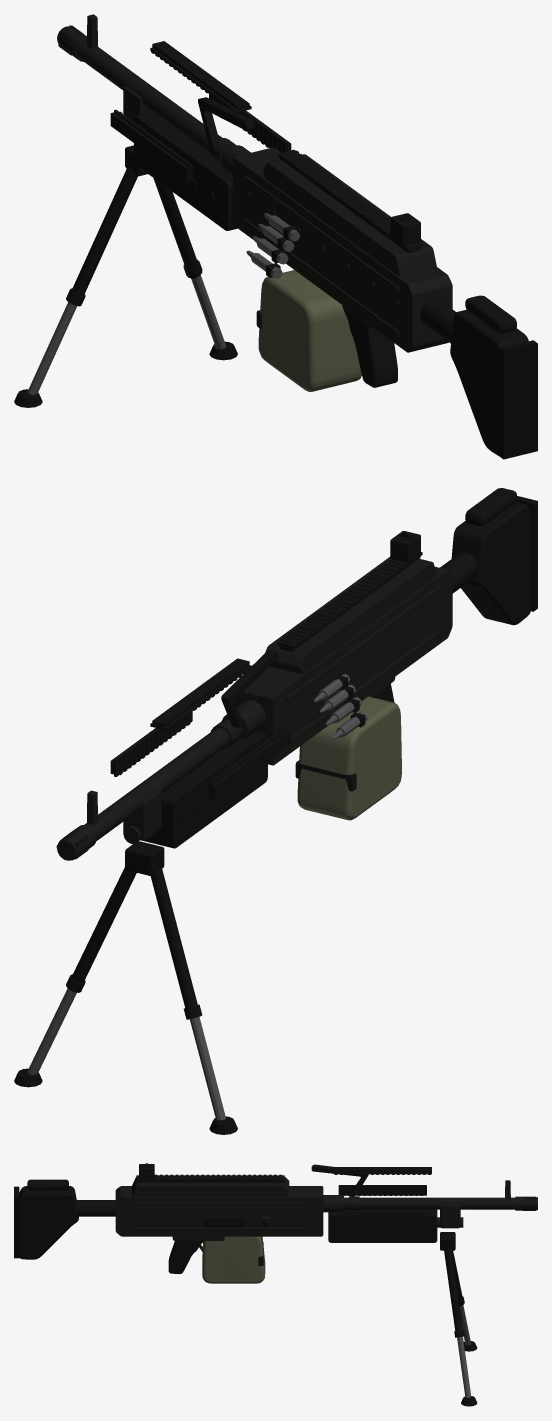
File: weapon_fn_minimi.glb
3 views of the same model, one above another, from view 1: azimuth 30°, elevation 25°; view 2: azimuth 150°, elevation 25°; view 3: azimuth 270°, elevation 25° (orthographic). The views are drawn at different scales.
Visible parts, largest first — view 1: weapon_fn_minimi_LOD0, weapon_fn_minimi_Stock_LOD0, weapon_fn_minimi_AmmoPouch_LOD0, weapon_fn_minimi_FeedCover_LOD0, weapon_fn_minimi_Bipod_LOD0, weapon_fn_minimi_Belt_LOD0; view 2: weapon_fn_minimi_LOD0, weapon_fn_minimi_Stock_LOD0, weapon_fn_minimi_AmmoPouch_LOD0, weapon_fn_minimi_FeedCover_LOD0, weapon_fn_minimi_Bipod_LOD0, weapon_fn_minimi_Belt_LOD0; view 3: weapon_fn_minimi_LOD0, weapon_fn_minimi_Stock_LOD0, weapon_fn_minimi_FeedCover_LOD0, weapon_fn_minimi_AmmoPouch_LOD0, weapon_fn_minimi_Bipod_LOD0.
Part boxes in pixels (bbox=[...]): weapon_fn_minimi_LOD0: bbox=[57, 14, 452, 387]; weapon_fn_minimi_Stock_LOD0: bbox=[420, 295, 537, 459]; weapon_fn_minimi_AmmoPouch_LOD0: bbox=[256, 270, 361, 391]; weapon_fn_minimi_FeedCover_LOD0: bbox=[263, 149, 436, 277]; weapon_fn_minimi_Bipod_LOD0: bbox=[14, 145, 237, 407]; weapon_fn_minimi_Belt_LOD0: bbox=[246, 213, 300, 278]; weapon_fn_minimi_LOD0: bbox=[56, 566, 452, 860]; weapon_fn_minimi_Stock_LOD0: bbox=[440, 488, 537, 625]; weapon_fn_minimi_AmmoPouch_LOD0: bbox=[295, 696, 401, 820]; weapon_fn_minimi_FeedCover_LOD0: bbox=[265, 531, 436, 674]; weapon_fn_minimi_Bipod_LOD0: bbox=[14, 841, 237, 1134]; weapon_fn_minimi_Belt_LOD0: bbox=[314, 674, 367, 739]; weapon_fn_minimi_LOD0: bbox=[115, 1164, 537, 1274]; weapon_fn_minimi_Stock_LOD0: bbox=[14, 1179, 115, 1259]; weapon_fn_minimi_FeedCover_LOD0: bbox=[132, 1163, 289, 1196]; weapon_fn_minimi_AmmoPouch_LOD0: bbox=[202, 1236, 265, 1283]; weapon_fn_minimi_Bipod_LOD0: bbox=[440, 1232, 477, 1406].
Size of what is drawn, in the model's own units: 0.2826 by 0.4528 by 1.01.
